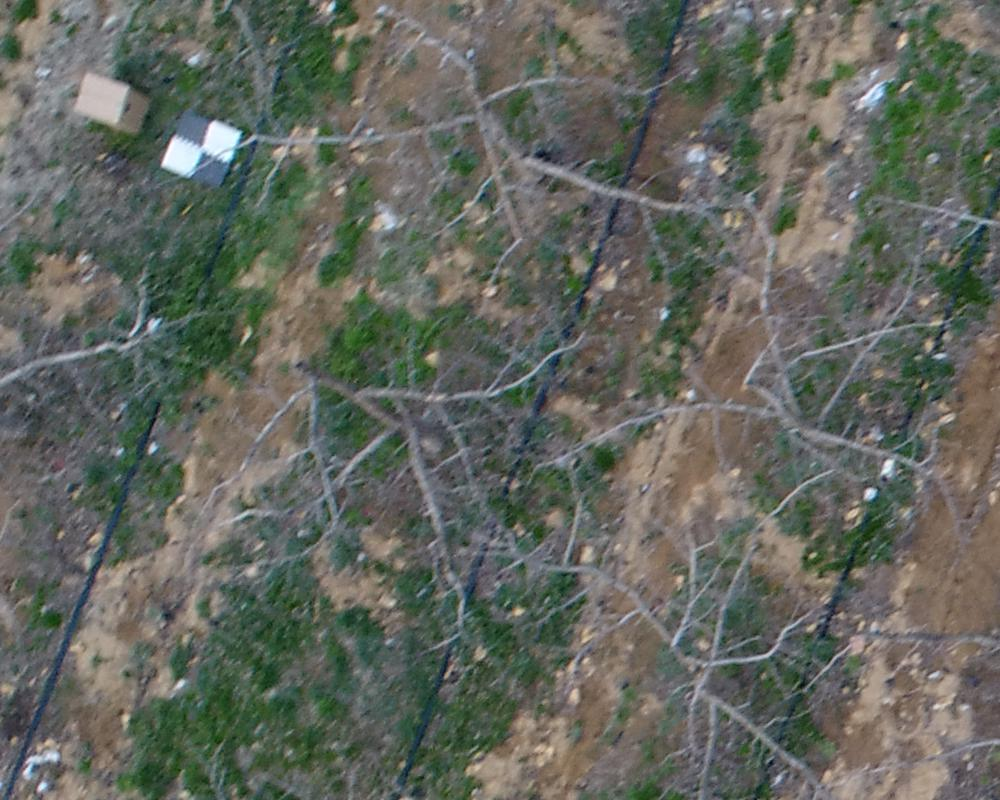apple: (234, 10, 749, 274), (229, 297, 607, 653), (584, 234, 984, 531), (541, 471, 881, 790)
